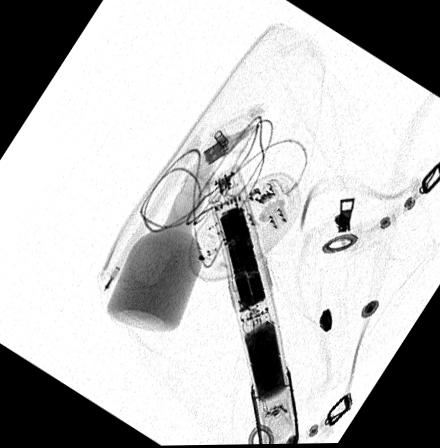Baton: (204, 163, 299, 445)
